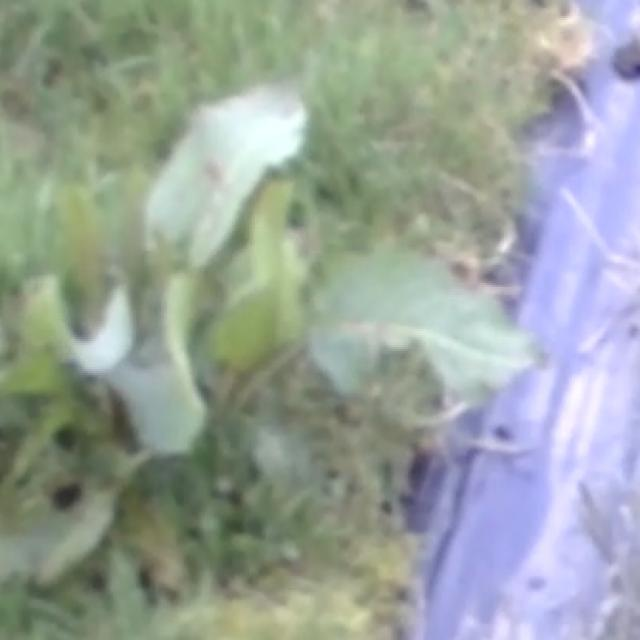organic waste: (0, 69, 532, 485)
